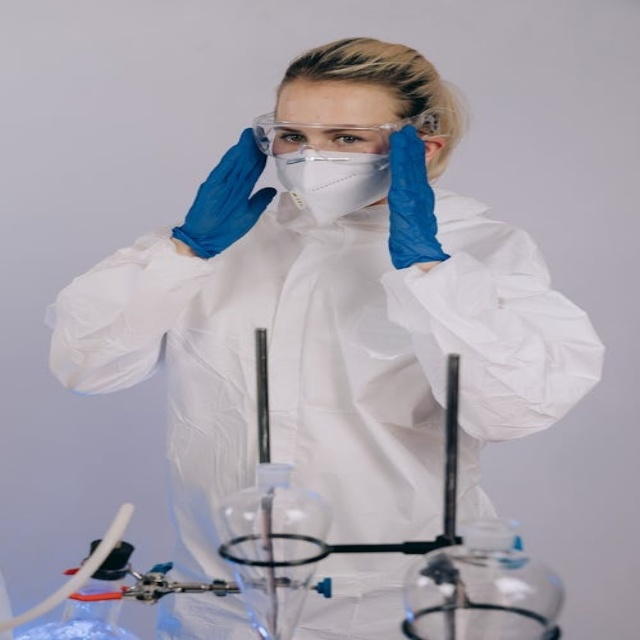Gafas: (250, 108, 439, 166)
Guantes: (171, 128, 278, 260), (384, 125, 451, 269)
Mascara: (268, 135, 397, 227)
